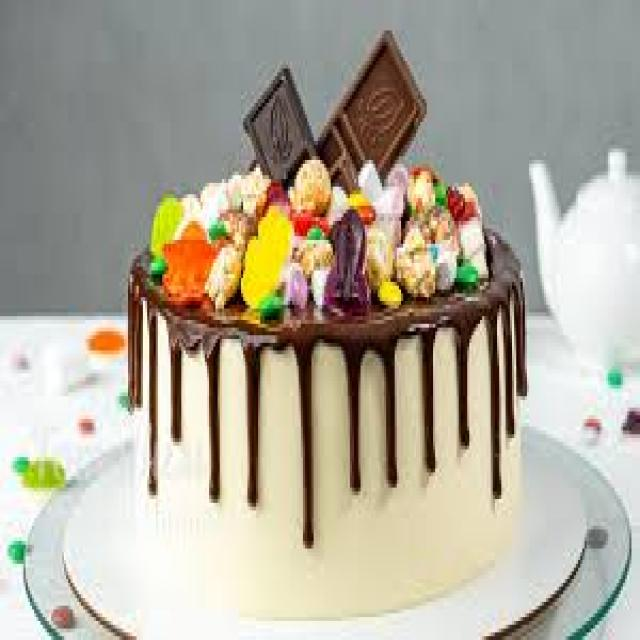Wet Waste: (49, 56, 587, 613)
